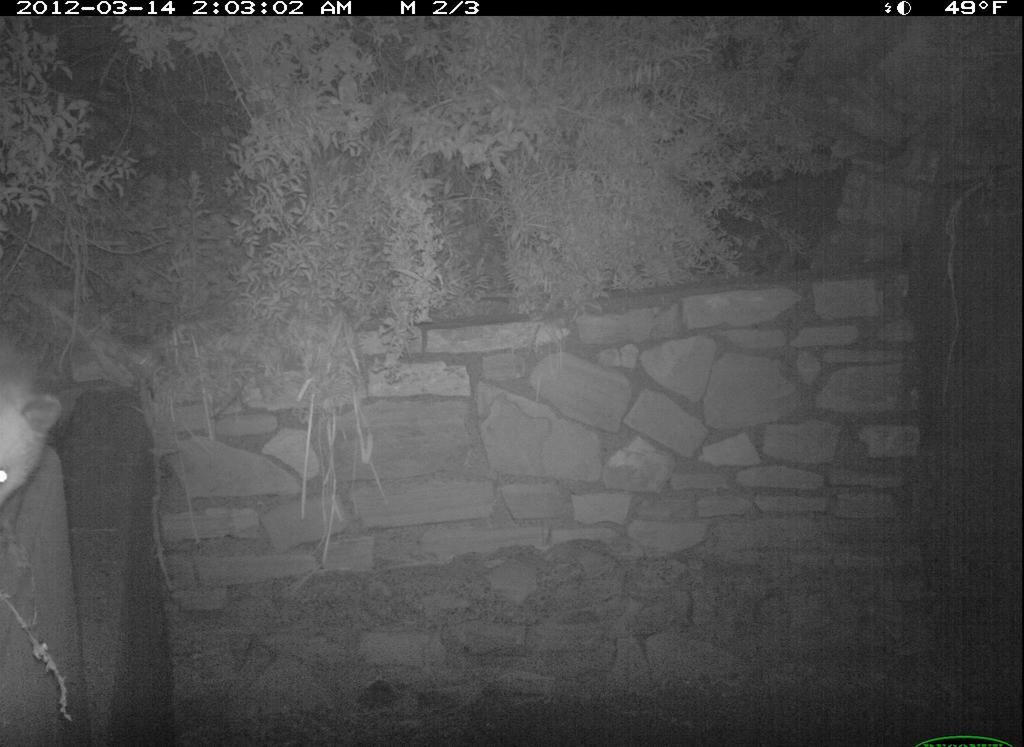opossum: (1, 337, 68, 524)
